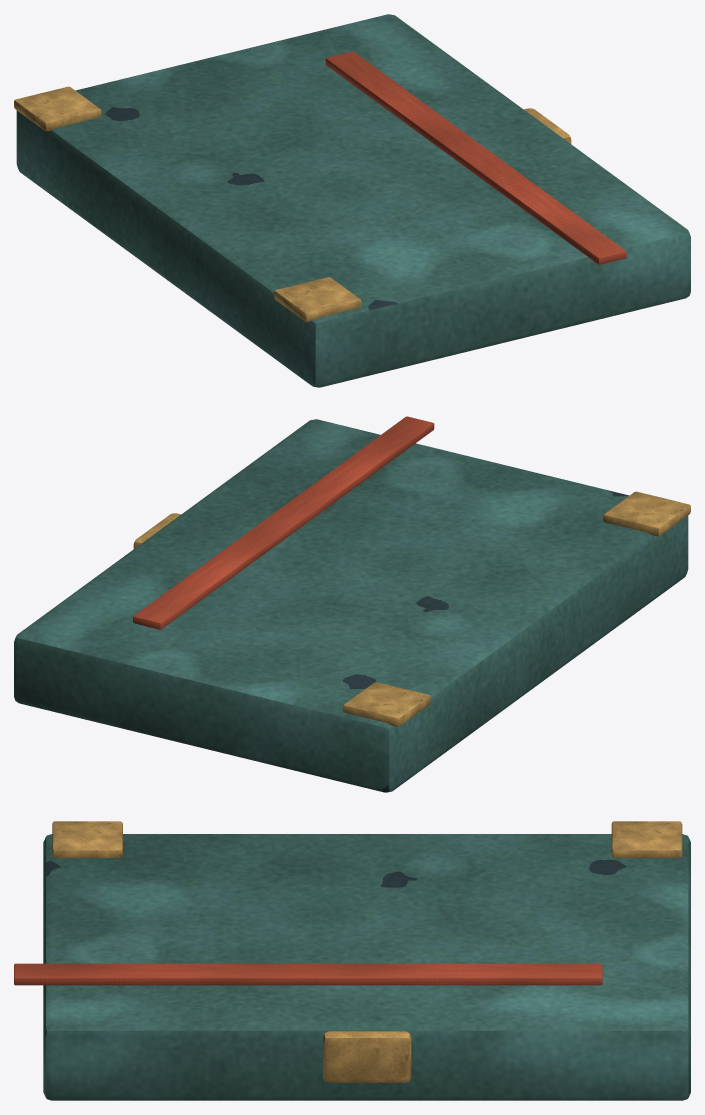
Rendered from crafting_guide.glb.
3 views of the same model, one above another, from view 1: azimuth 30°, elevation 25°; view 2: azimuth 150°, elevation 25°; view 3: azimuth 270°, elevation 25° (orthographic). The views are drawn at different scales.
Visible parts, largest first — view 1: crafting_guide; view 2: crafting_guide; view 3: crafting_guide.
Part boxes in pixels (x1,y1,x2,y2): crafting_guide: (14,14,690,387); crafting_guide: (14,416,690,792); crafting_guide: (14,821,690,1100).
Size of the model in its own units: 0.166 by 0.0315 by 0.23.
Materials: 4 (4 with a texture image).
